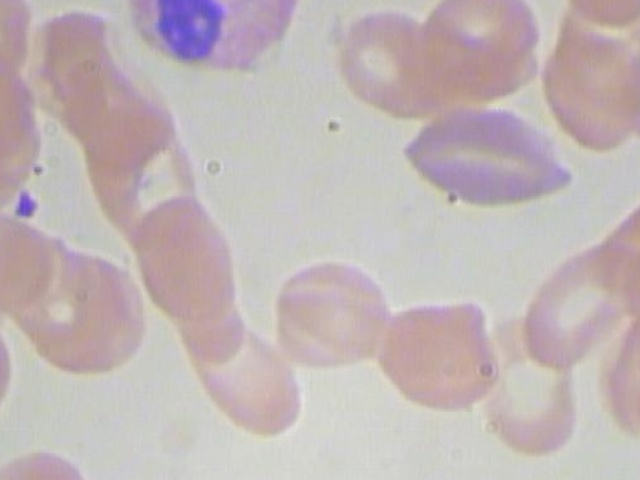Platelets: (7, 186, 46, 221)
RBC: (389, 102, 579, 215), (463, 310, 587, 455), (78, 102, 205, 238), (130, 191, 254, 323), (526, 13, 640, 156), (268, 256, 395, 369), (182, 323, 308, 436), (334, 4, 460, 116), (381, 298, 501, 409), (419, 0, 545, 88), (0, 201, 71, 316), (0, 0, 41, 83), (0, 444, 91, 480)
WBC: (120, 0, 305, 84)
